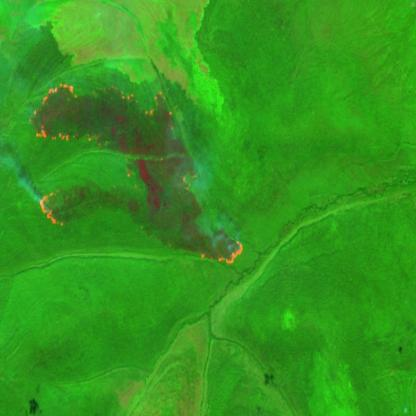fire: (32, 76, 245, 269)
